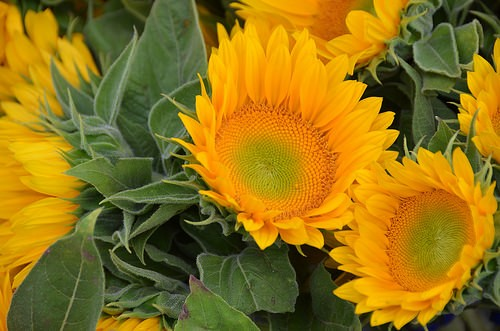flower: (153, 30, 404, 260), (322, 144, 500, 331)
